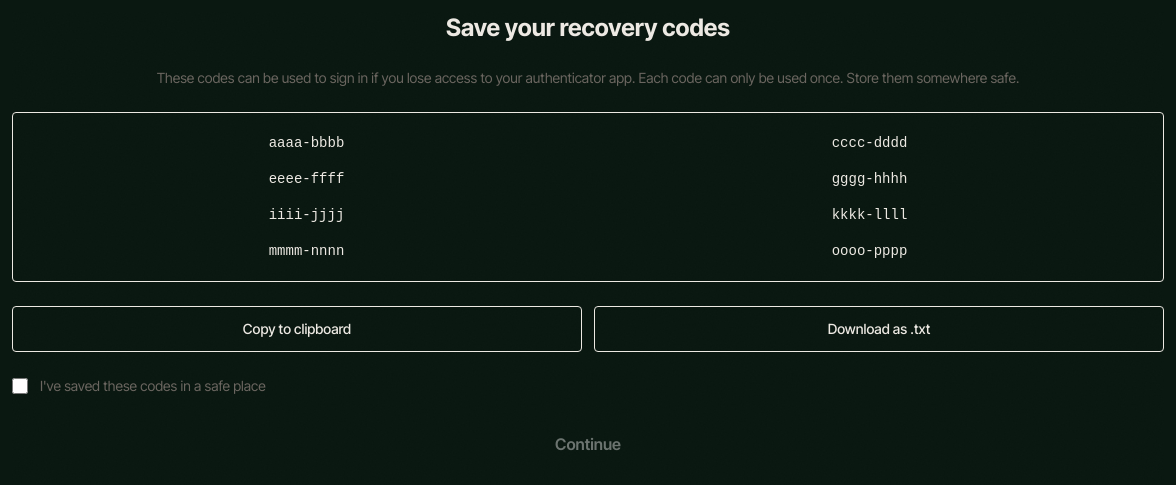
RecoveryCodesDisplay › Continue button is enabled after checkbox is checked
This screenshot has width=1176, height=485.
Click the checkbox with test id "saved-checkbox": (20, 386) top-left (12, 378), bottom-right (28, 394)
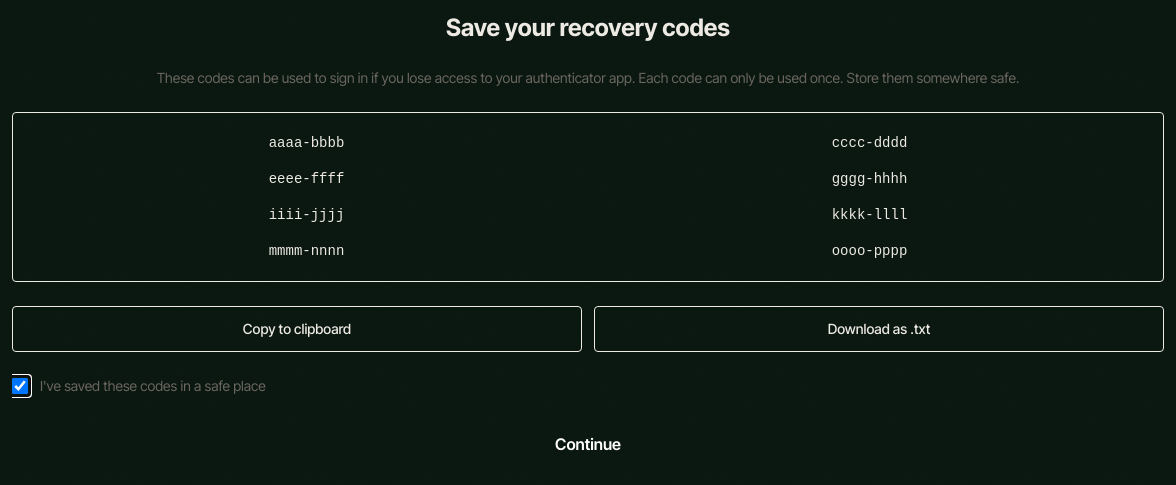
Now the button "Continue" is enabled, box top-left (12, 420), bottom-right (1164, 468)
